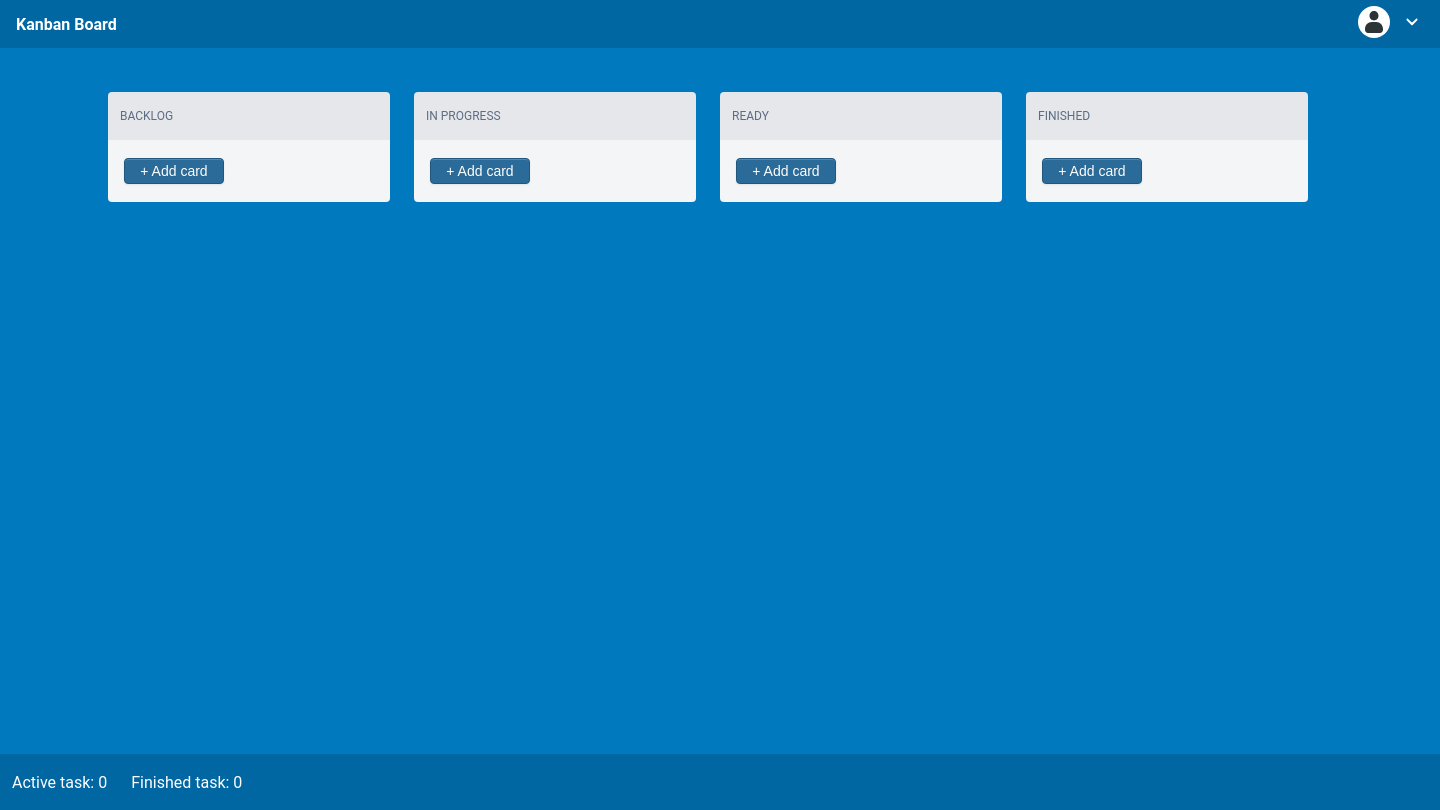
column tests › adding tasks in backlog section
The image size is (1440, 810).
Click the button with test id "backlog-button-add". click: (174, 171)
box: [124, 158, 224, 184]
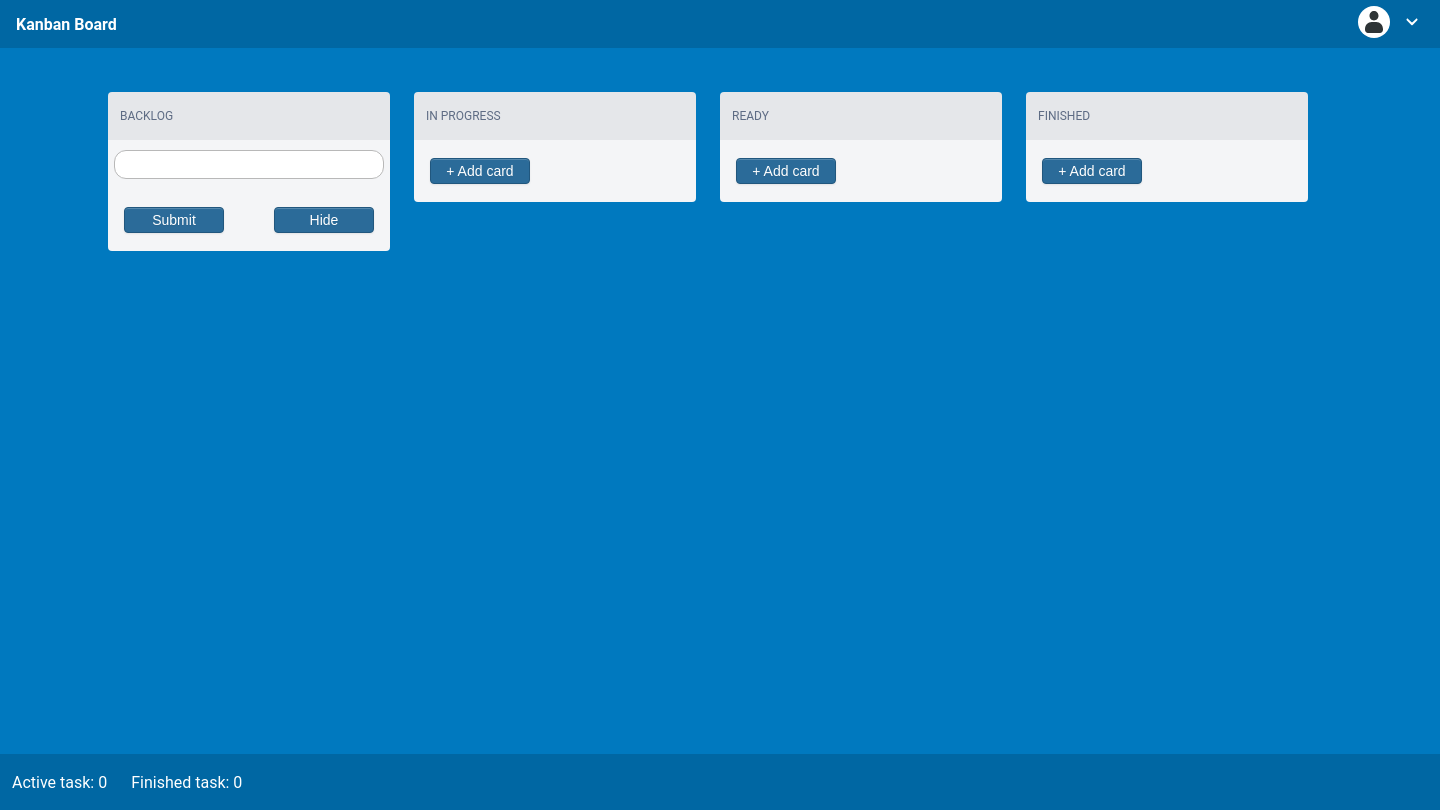
Type "Go for a walk" into the field with test id "column-input". click: (249, 164)
box: [114, 150, 384, 179]
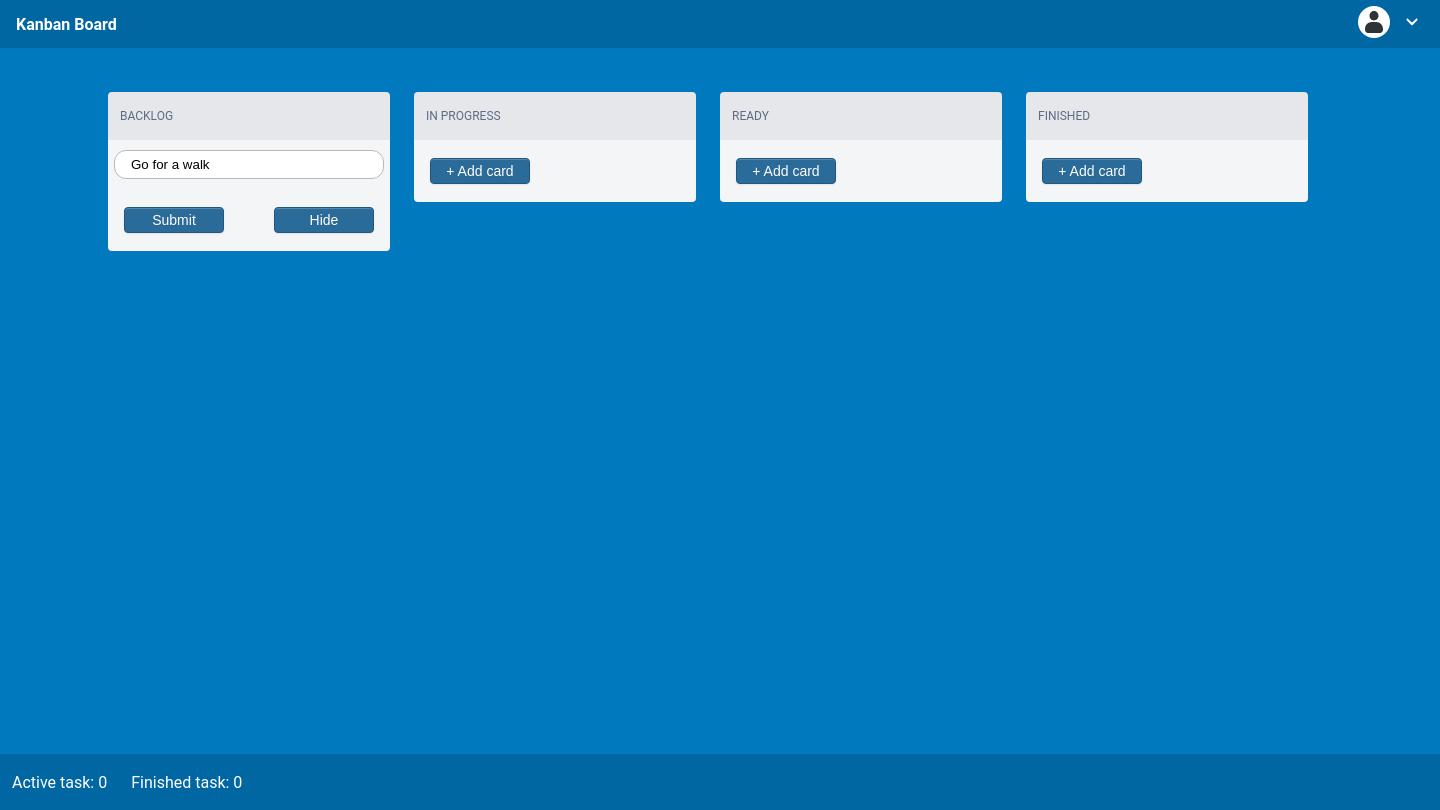
Click the button with test id "backlog-button-submit". click: (174, 220)
box: [124, 207, 224, 233]
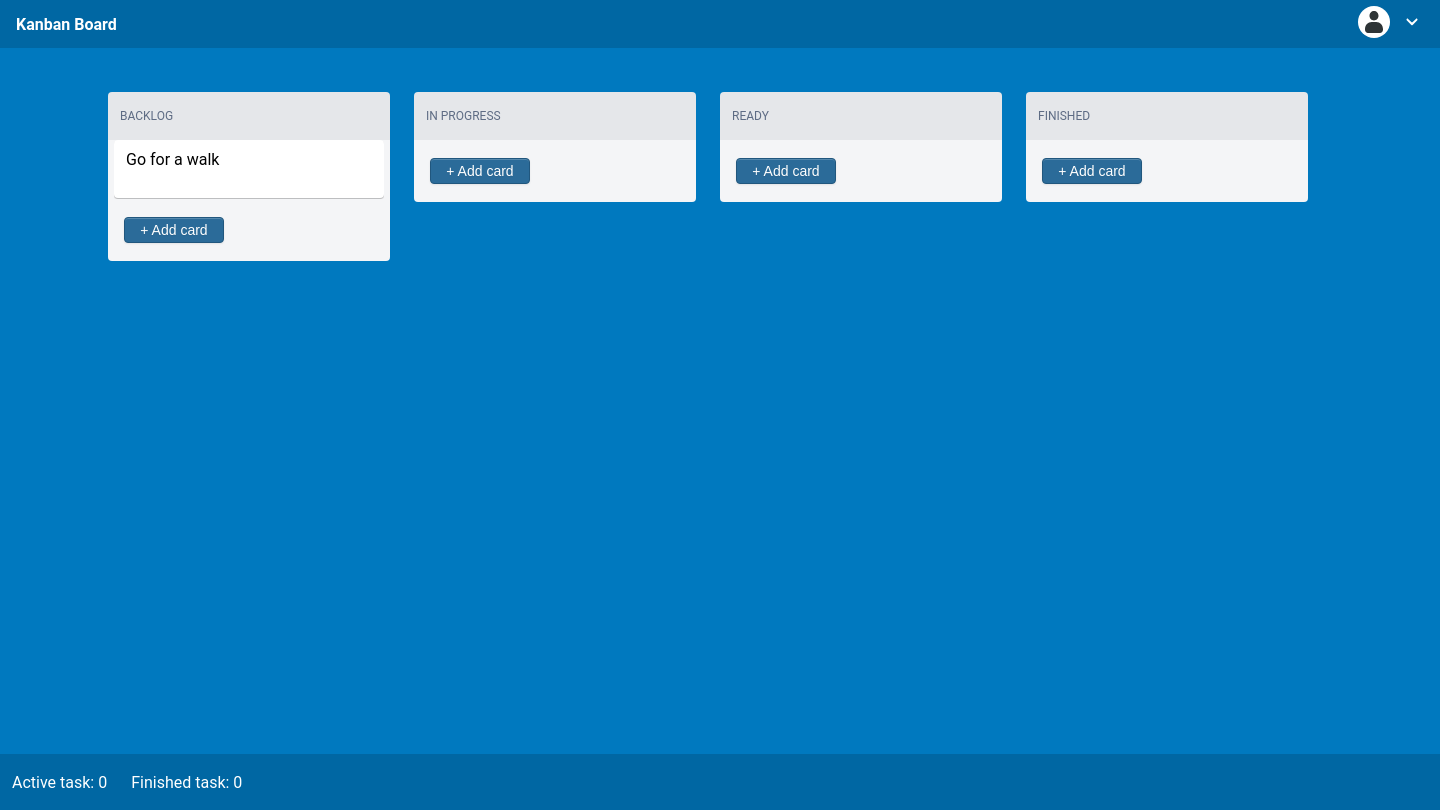
Check: the text "Go for a walk" is shown, box [126, 150, 220, 169]
